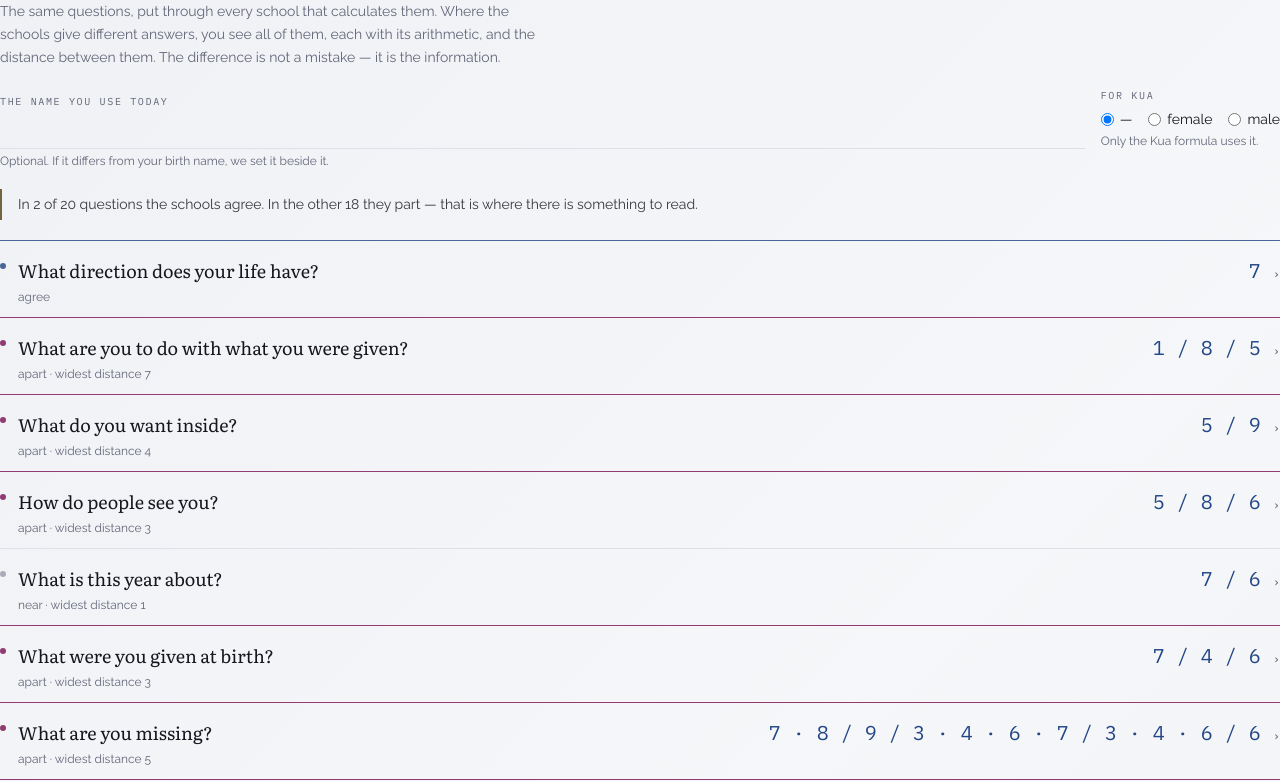
Scenario: AllSchools › adaugă Kua când se alege genul
Click the radio button named "kua-gender" at [1155, 119], box [1148,113,1161,126]
(page scrolled)
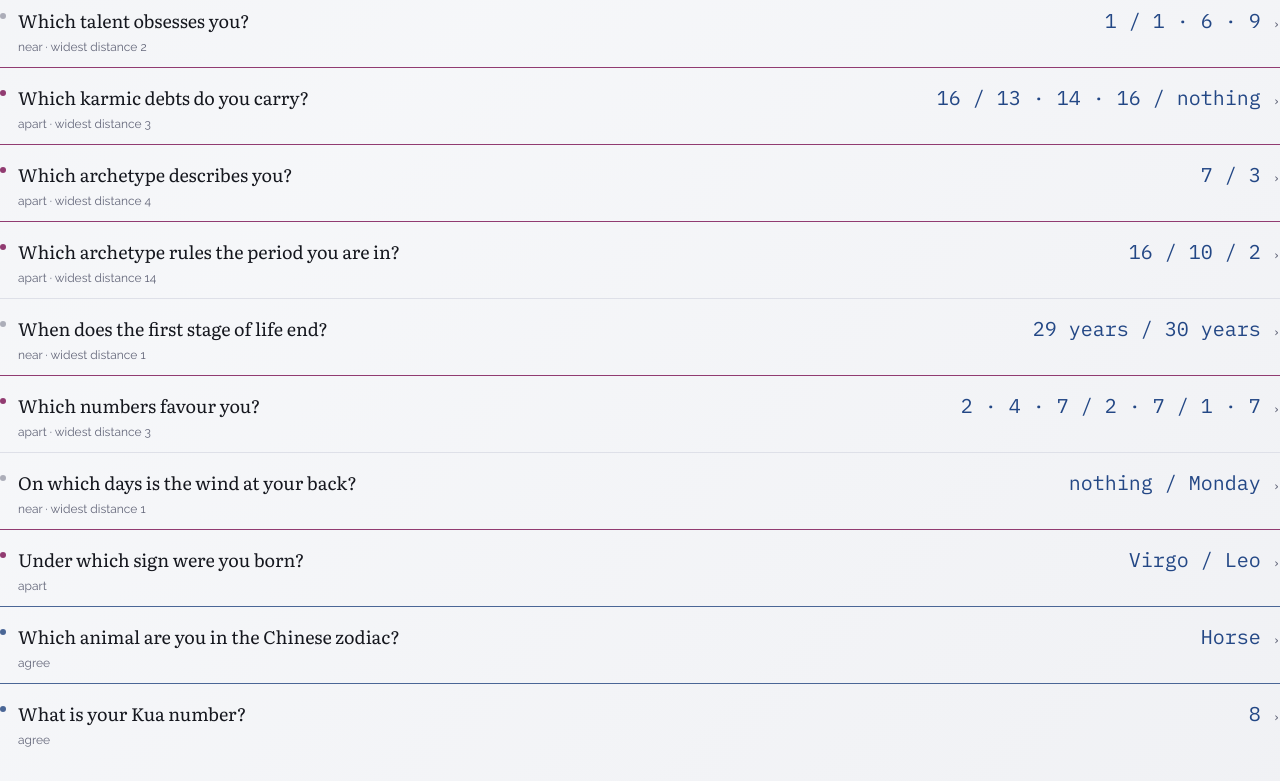
expect the element showing "What is your Kua number? agree 8 ›" is shown: met, box [0,683,1279,760]
